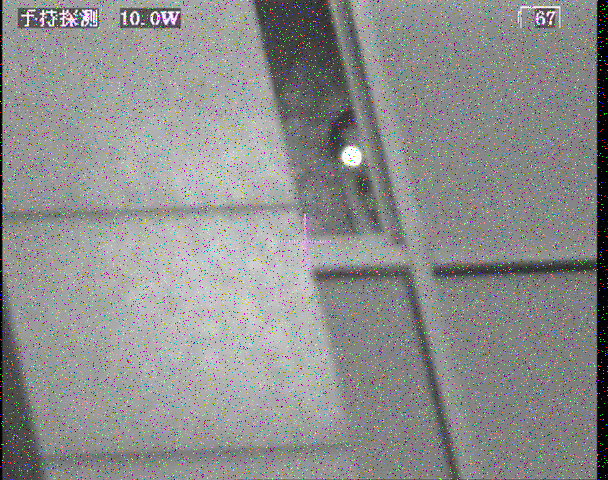my: (341, 144, 363, 168)
